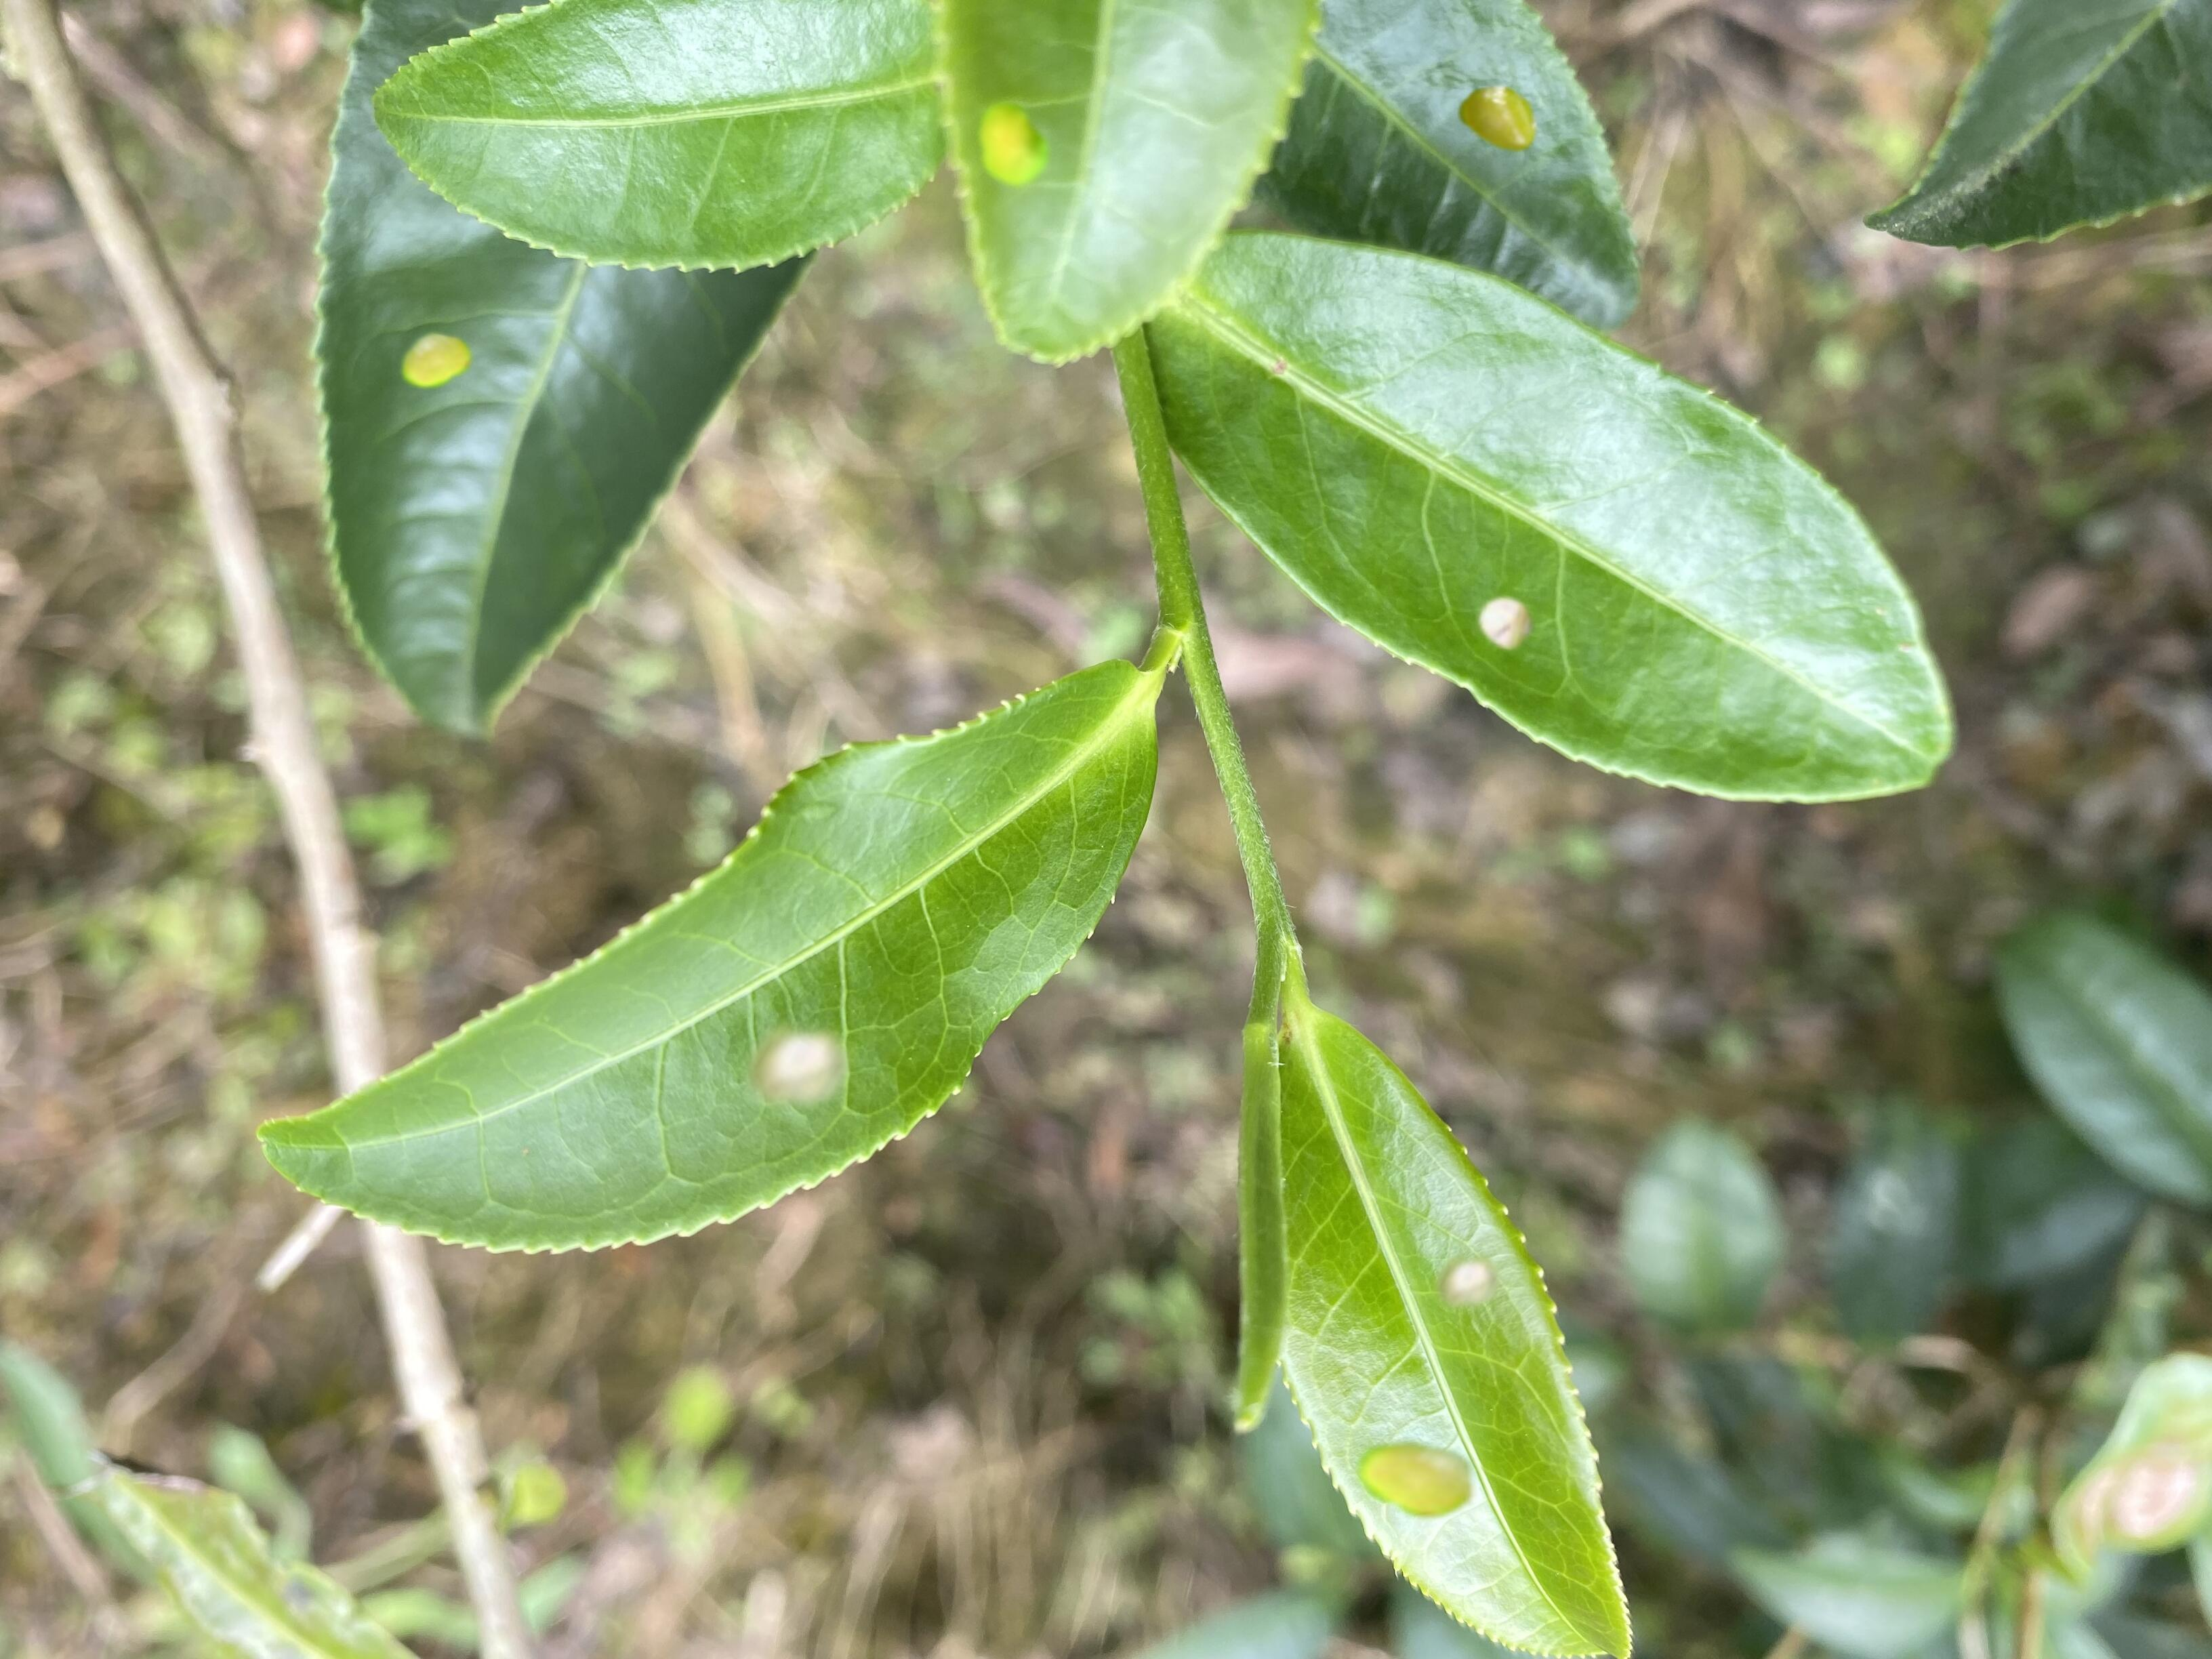chabing_high: (1284, 1009, 1635, 1656)
chabing_low: (258, 655, 1158, 1258), (1172, 234, 1958, 807), (312, 3, 813, 742), (939, 3, 1325, 366), (1271, 0, 1639, 331)
healthy: (373, 5, 944, 277), (1865, 3, 2210, 251)
